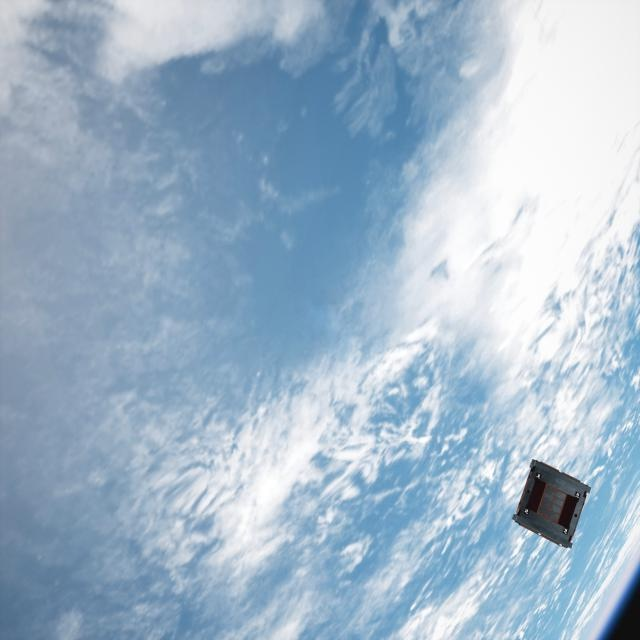satellite: (508, 456, 592, 545)
